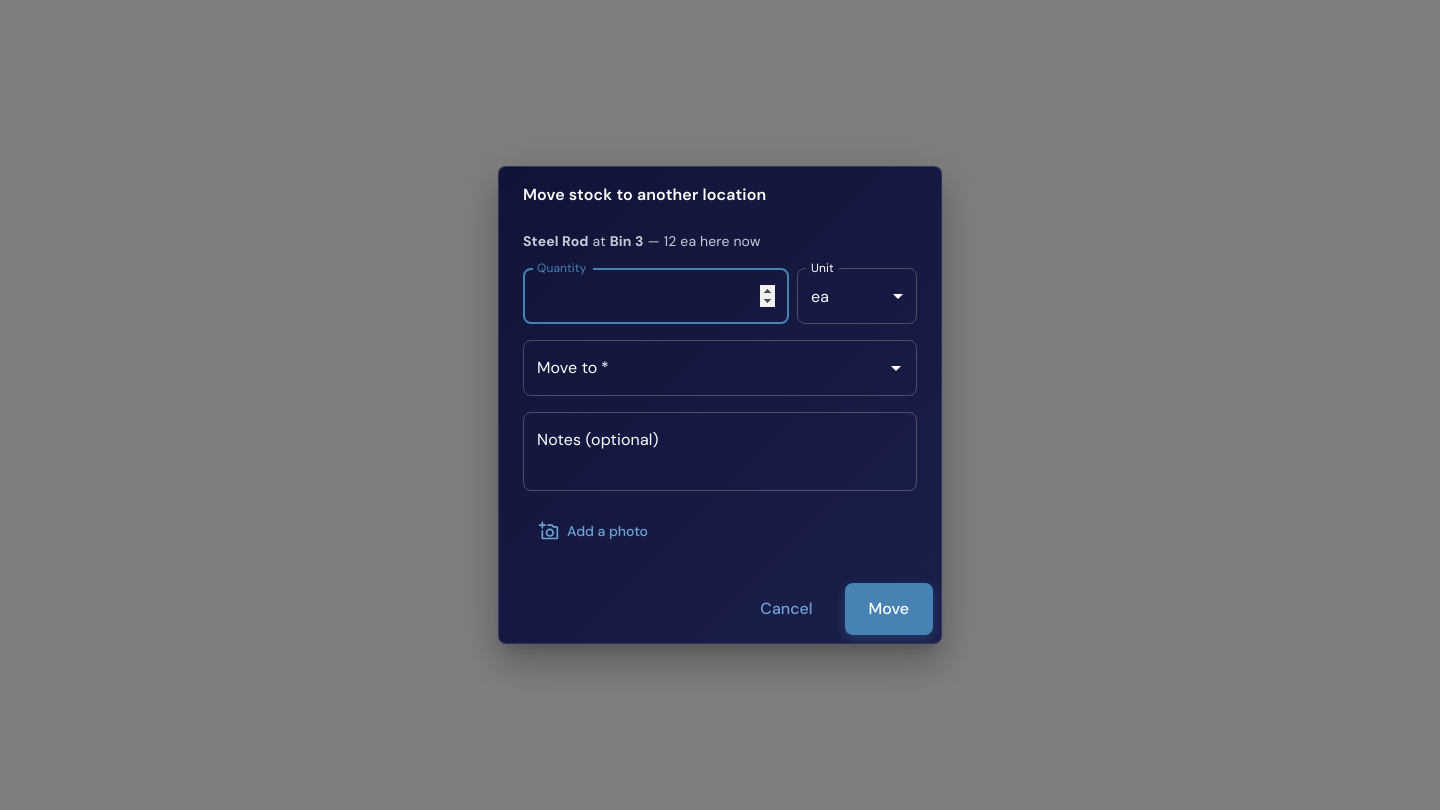
Test: move › asks where it is going rather than guessing
The width and height of the screenshot is (1440, 810).
In the number field labelled "Quantity": coordinates (656, 296) [523,268,789,324], type "4"
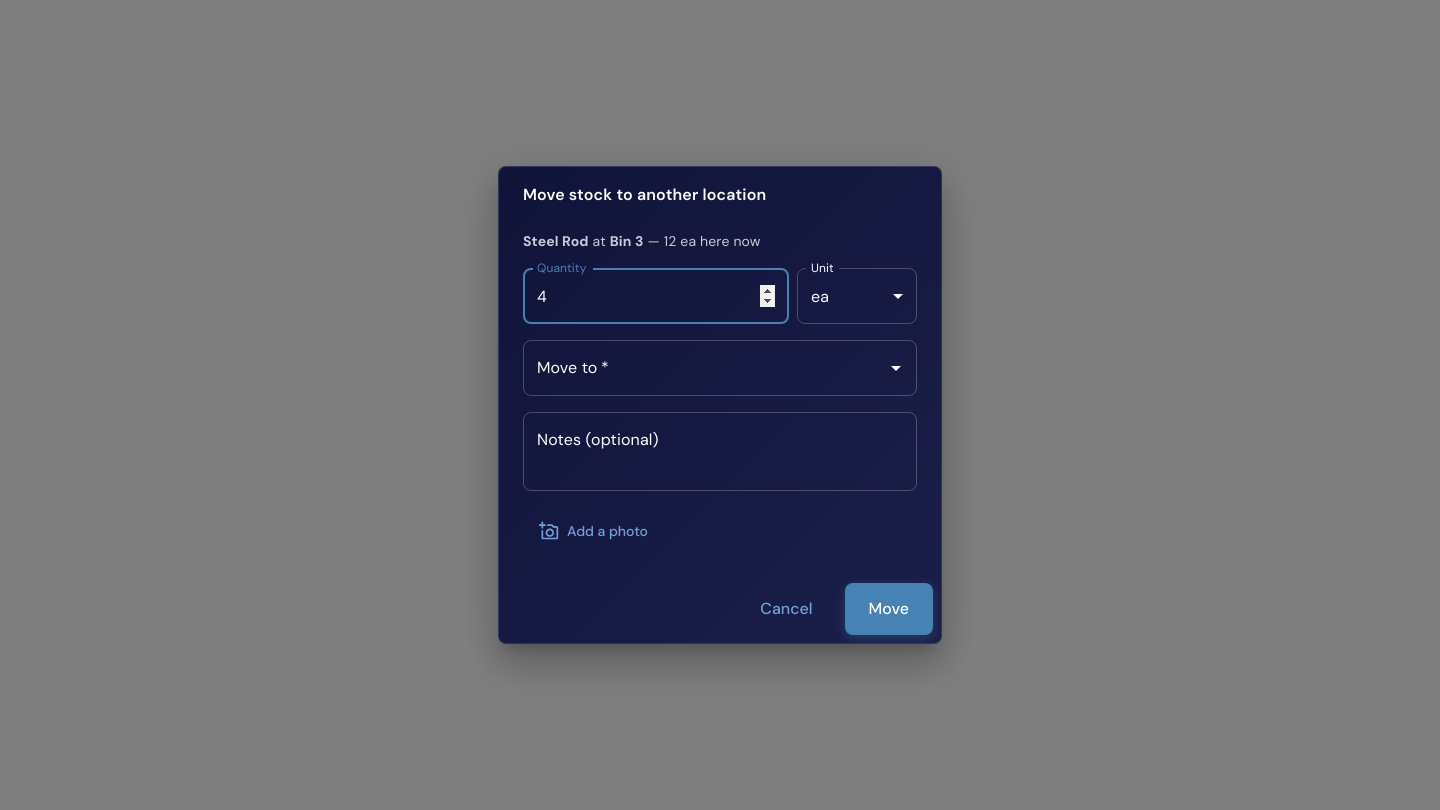
Click the button "Move": coordinates (889, 609) [845,583,933,635]
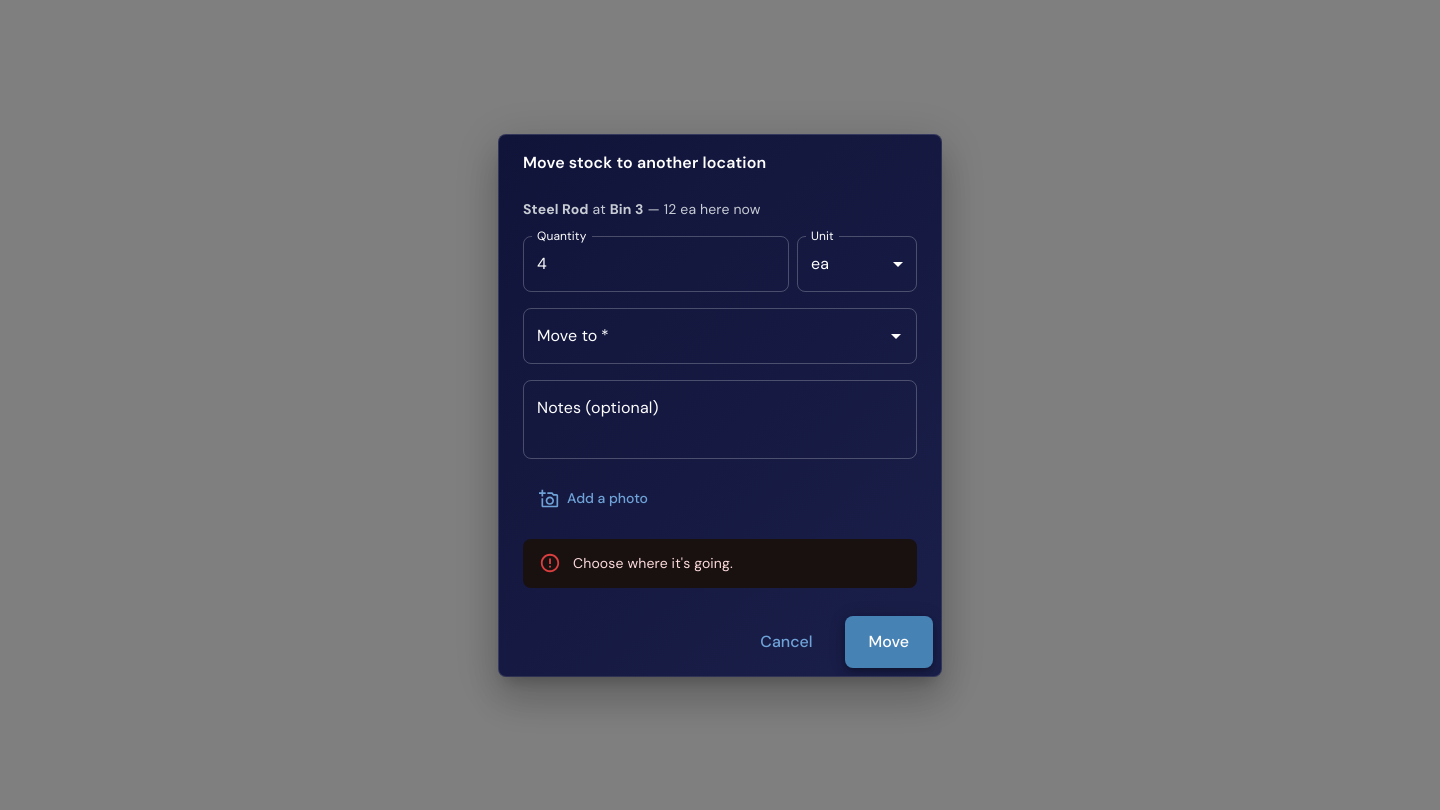
Expected: the text "Choose where it's going." is shown, [573,554,733,572]
